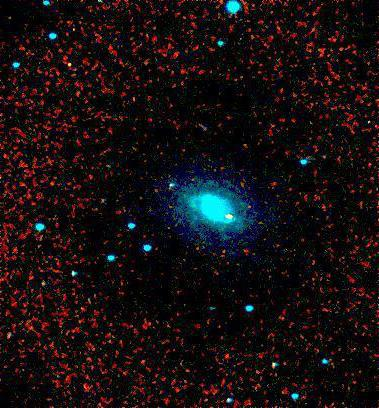star: (215, 202, 245, 232)
